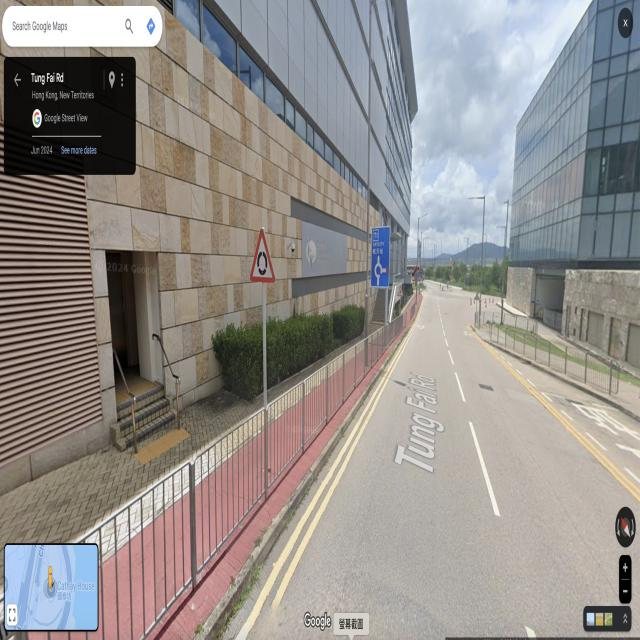Direction-Sign: (371, 227, 390, 287)
Warning-Sign: (249, 229, 276, 280), (397, 286, 403, 296)
